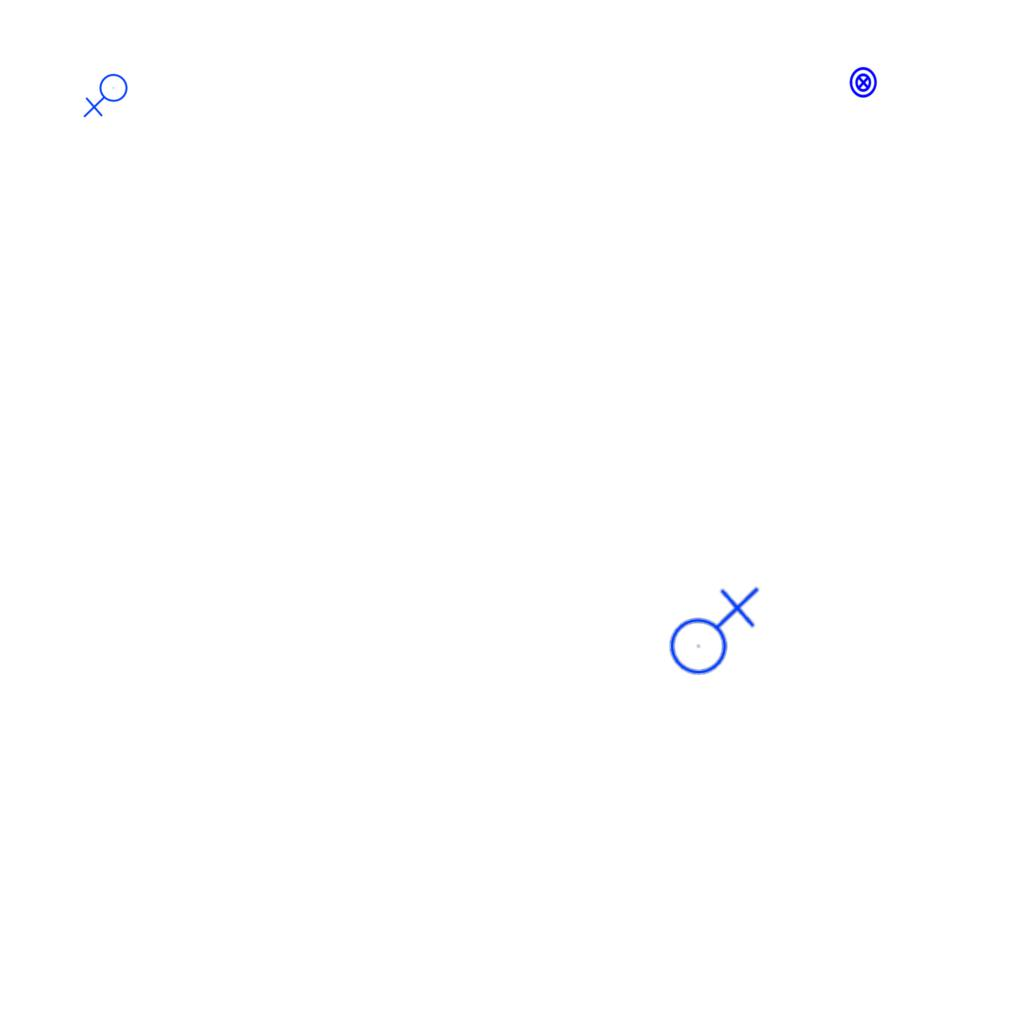Elektroanschluss_allgemein_230V_Geraeteanschlussdose_230V: (661, 582, 760, 676), (83, 73, 132, 120)
Taster_beleuchtet: (847, 66, 880, 99)
